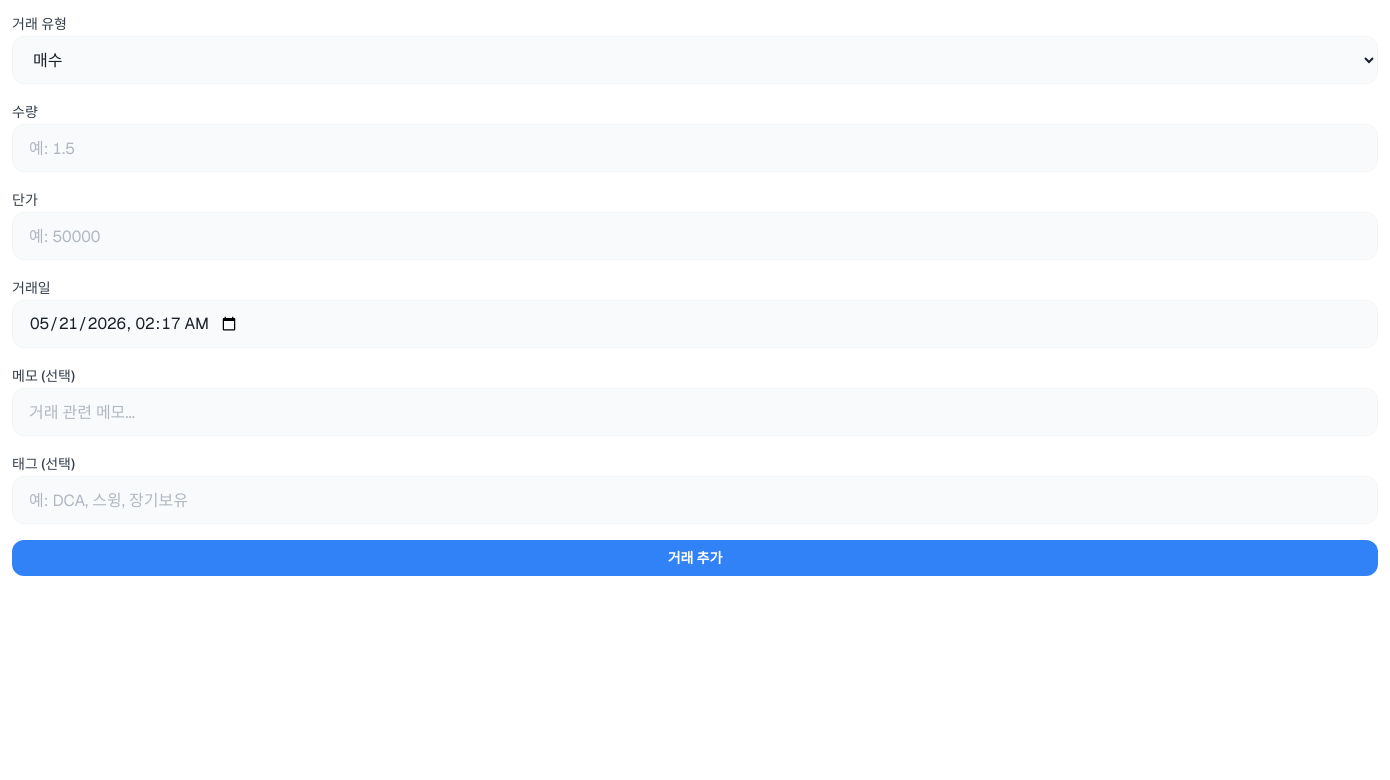
Test: TransactionForm — SELL 사전 검증 › SELL 선택 시 보유 수량 힌트가 노출된다
Select "매도" in the dropdown labelled "거래 유형" at (695, 60), box [12,36,1378,84]
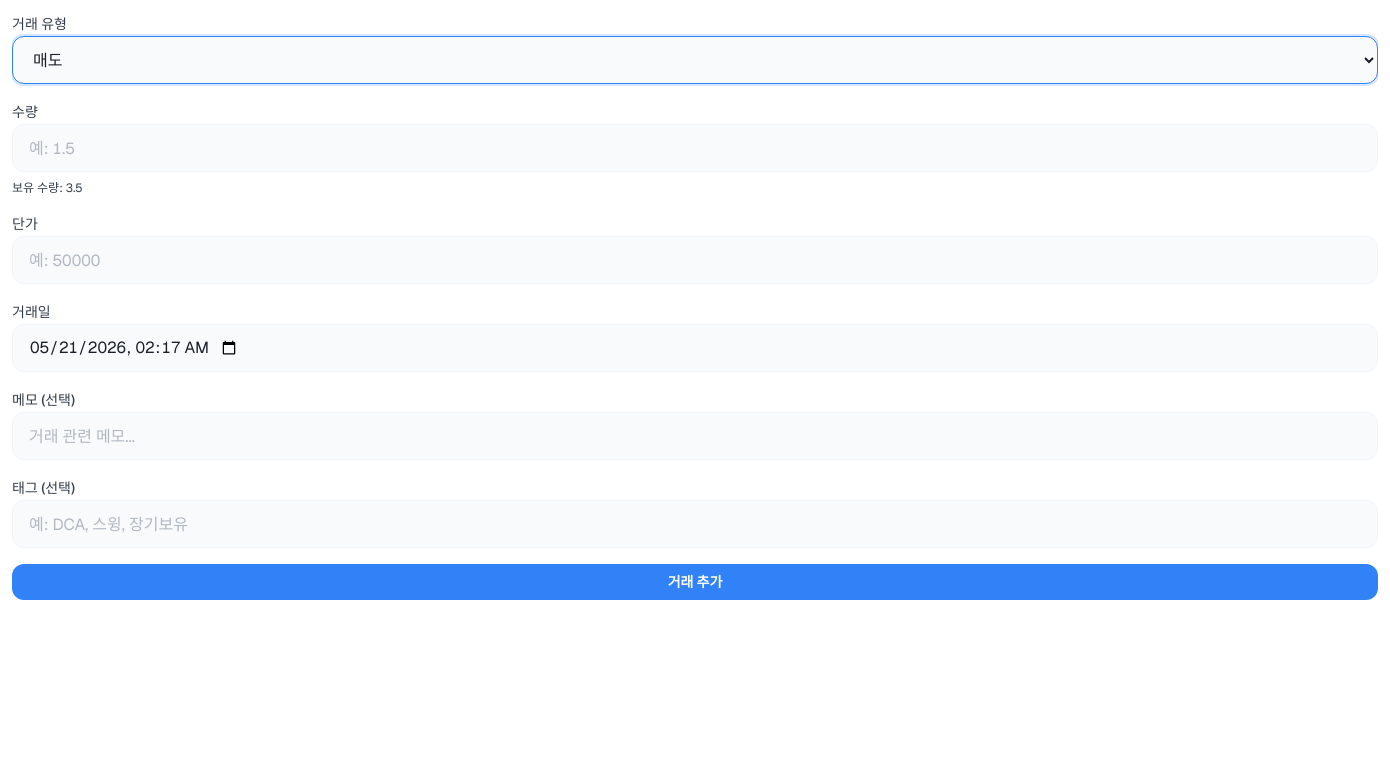
Expected: the text "보유 수량: 3.5" is shown, [12,180,82,196]
